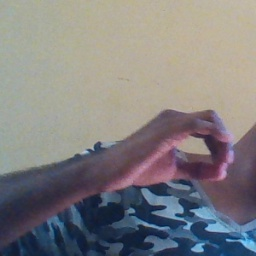O: (114, 98, 241, 197)
